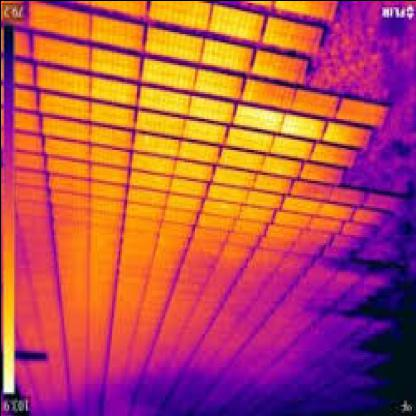Defects: (245, 108, 323, 136)
